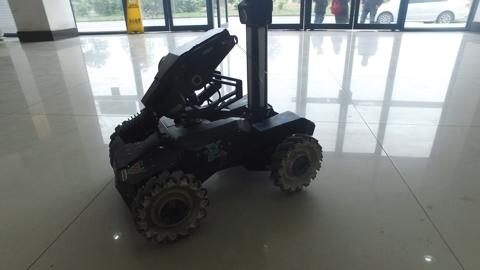car: (367, 1, 471, 24)
chariot: (107, 1, 324, 243)
